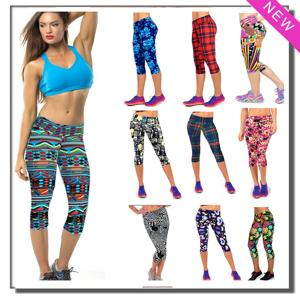C_W_pants: (23, 115, 95, 237), (129, 14, 165, 79), (234, 15, 272, 75), (131, 110, 170, 165), (185, 114, 226, 166), (192, 207, 233, 258), (188, 15, 221, 76), (141, 204, 173, 265), (246, 211, 279, 265), (242, 114, 273, 167)
C_sneakers: (32, 257, 81, 282), (122, 89, 171, 110), (132, 181, 180, 202), (235, 88, 290, 104), (193, 177, 235, 197), (180, 93, 226, 109), (198, 268, 244, 281), (252, 180, 274, 200), (247, 270, 278, 282), (144, 267, 165, 279)
C_tank top: (34, 47, 95, 96)
